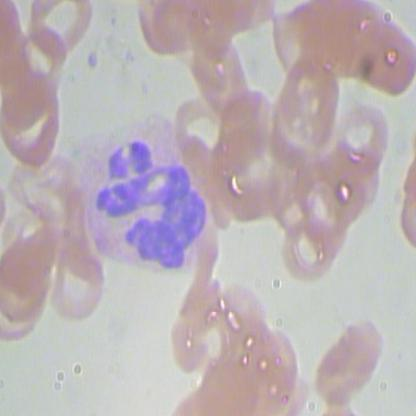Platelets: (82, 41, 106, 70)
RBC: (267, 58, 343, 160), (313, 313, 386, 412), (1, 71, 66, 172), (187, 29, 254, 113), (49, 244, 108, 325), (331, 97, 394, 169), (281, 209, 343, 282), (0, 246, 52, 322), (24, 1, 96, 54), (254, 324, 305, 394), (0, 273, 50, 344)
WBC: (70, 116, 210, 278)
